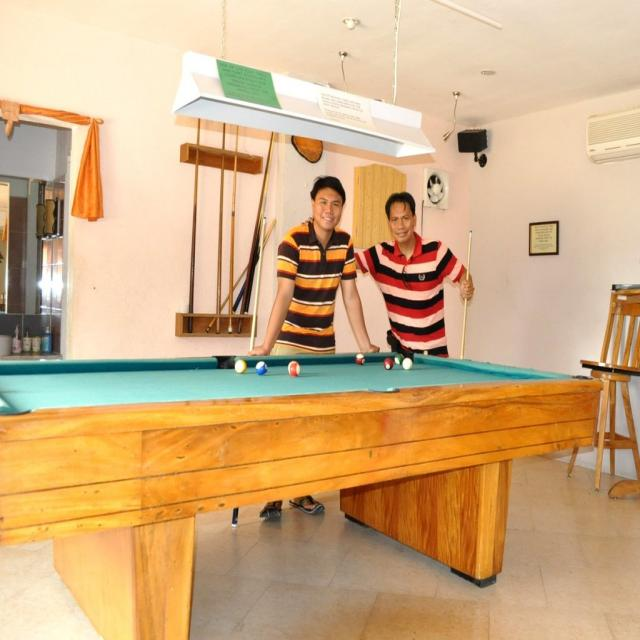Ball: (255, 359, 268, 377), (288, 360, 301, 377), (233, 359, 247, 374), (402, 356, 412, 372), (355, 353, 366, 365), (383, 359, 393, 371), (396, 356, 404, 367)
Billiard table: (0, 347, 605, 640)
